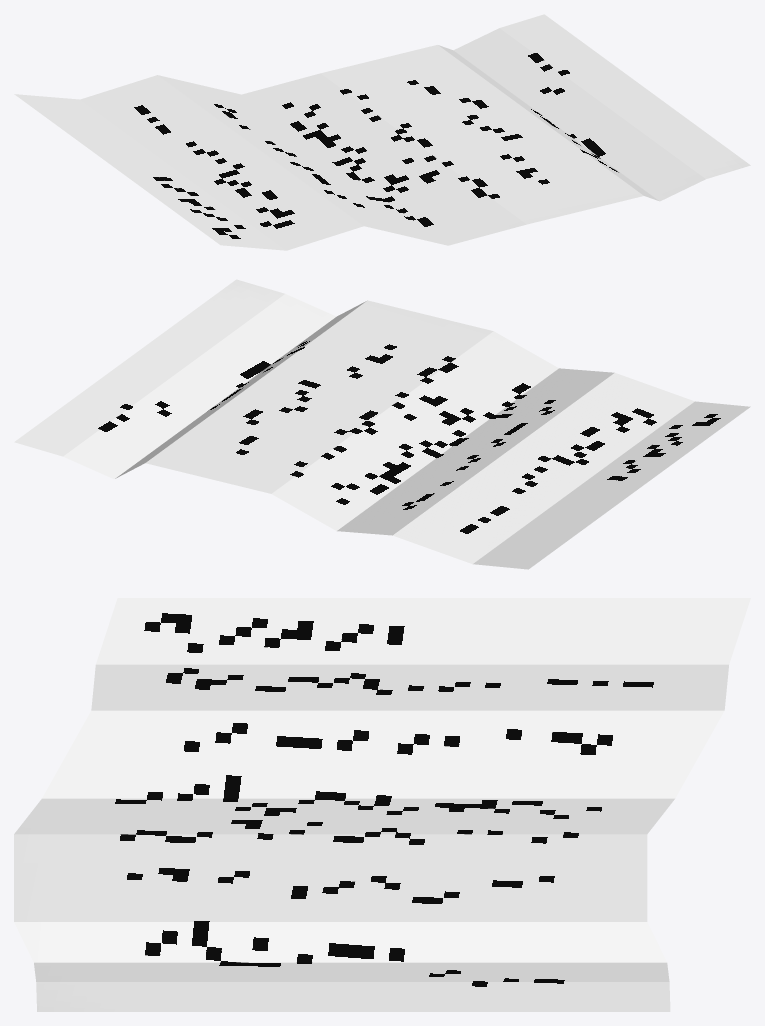
File: PixelPaper.glb
3 views of the same model, one above another, from view 1: azimuth 30°, elevation 25°; view 2: azimuth 150°, elevation 25°; view 3: azimuth 270°, elevation 25° (orthographic). The views are drawn at different scales.
Visible parts, largest first — view 1: Plane; view 2: Plane; view 3: Plane.
Part boxes in pixels (<box>): Plane: <box>14,14,750,250</box>; Plane: <box>14,279,750,569</box>; Plane: <box>14,598,750,1011</box>.
Bounding box in the file's own units: 2.82 × 0.1965 × 2.33.
1 material, 1 textured.
